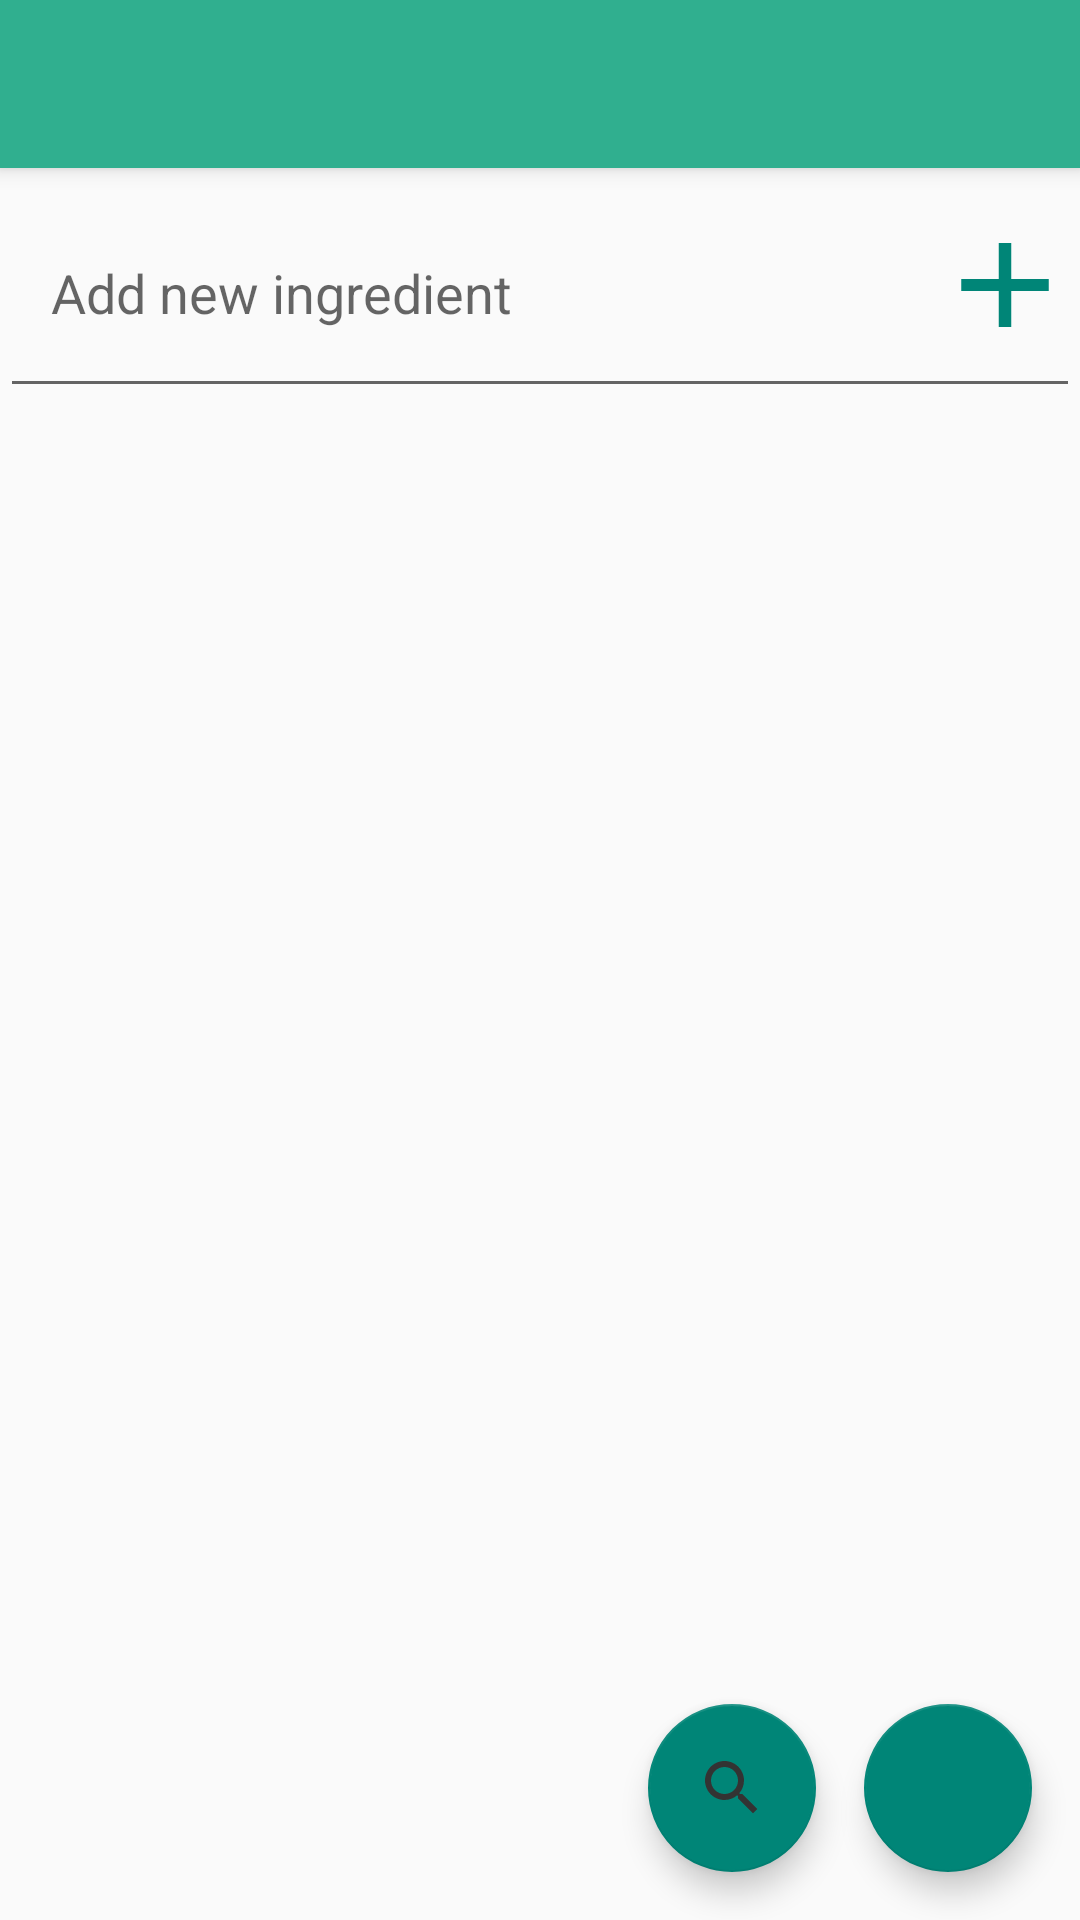

Icon bounding boxes for this 1080w x 1920h phone screenshot, format (x1, y1, x2, y2):
search: (648, 1704, 816, 1872)
